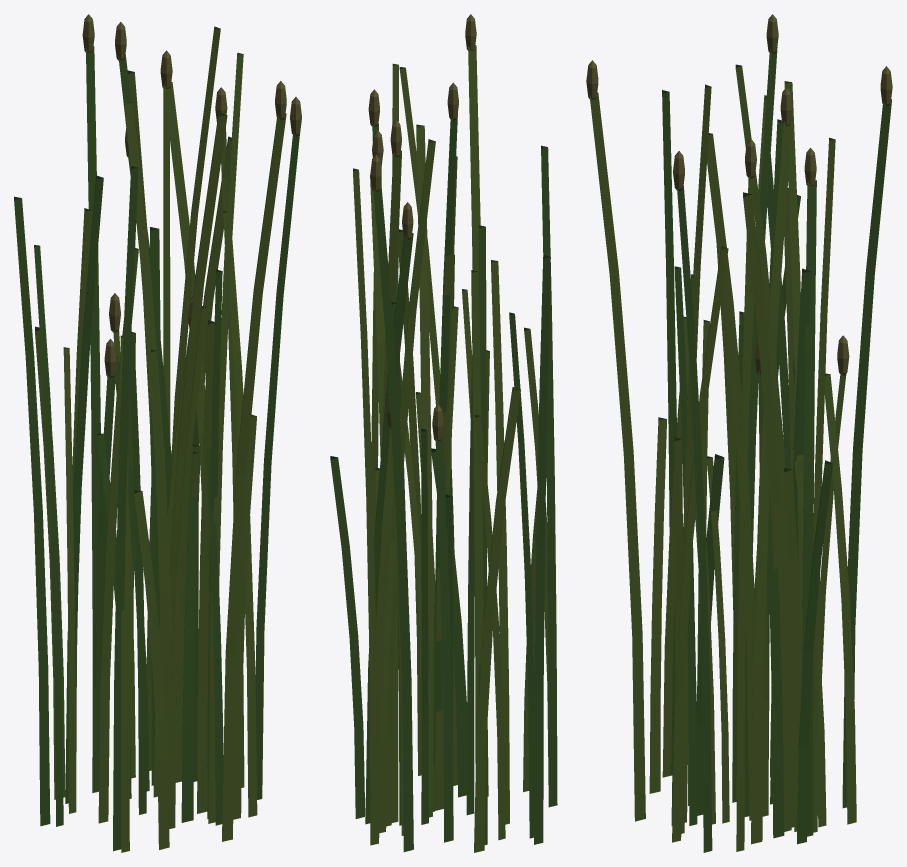
The model's file is wet_sedge_v1.glb.
3 renders of one model, left to right at view 1: azimuth 30°, elevation 25°; view 2: azimuth 150°, elevation 25°; view 3: azimuth 270°, elevation 25°, orthographic. The views are drawn at different scales.
Parts seen in each view (by area): view 1: wet_sedge_v1; view 2: wet_sedge_v1; view 3: wet_sedge_v1.
Boxes of the visible parts, <box> form: wet_sedge_v1: <box>14,14,301,852</box>; wet_sedge_v1: <box>330,14,557,852</box>; wet_sedge_v1: <box>586,14,892,852</box>.
Size of the model in its own units: 0.2222 by 0.6914 by 0.2439.
